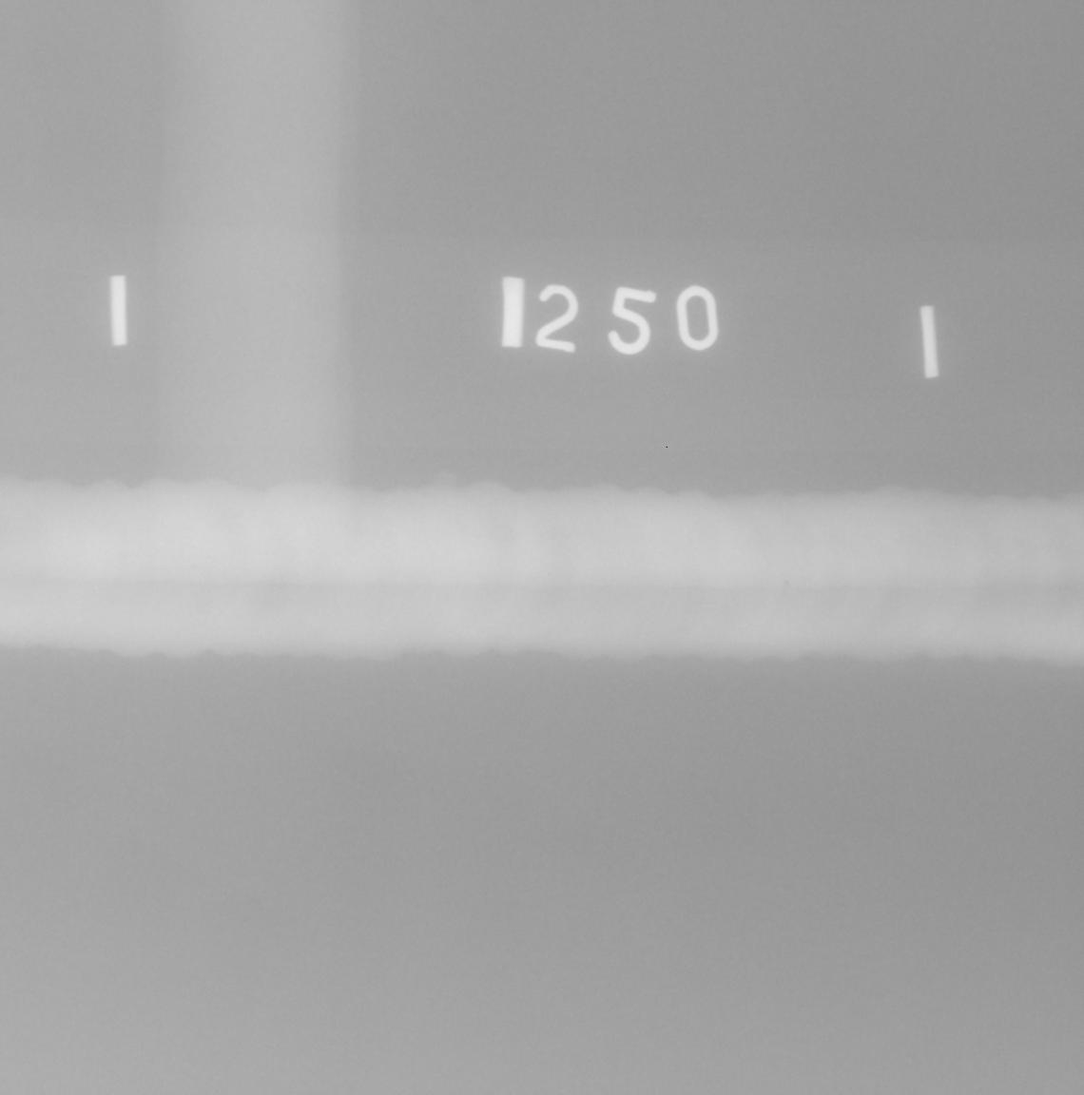Pore/Porosity: (191, 564, 196, 571), (784, 581, 789, 586)
